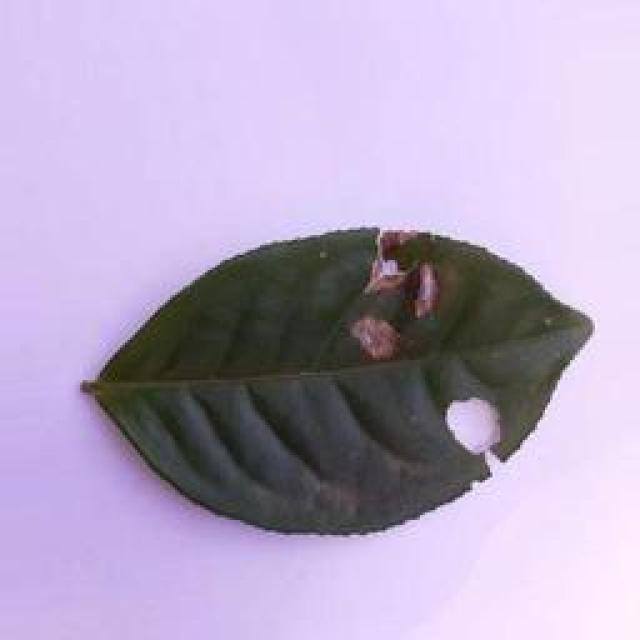Gray Blight: (70, 228, 598, 539)
